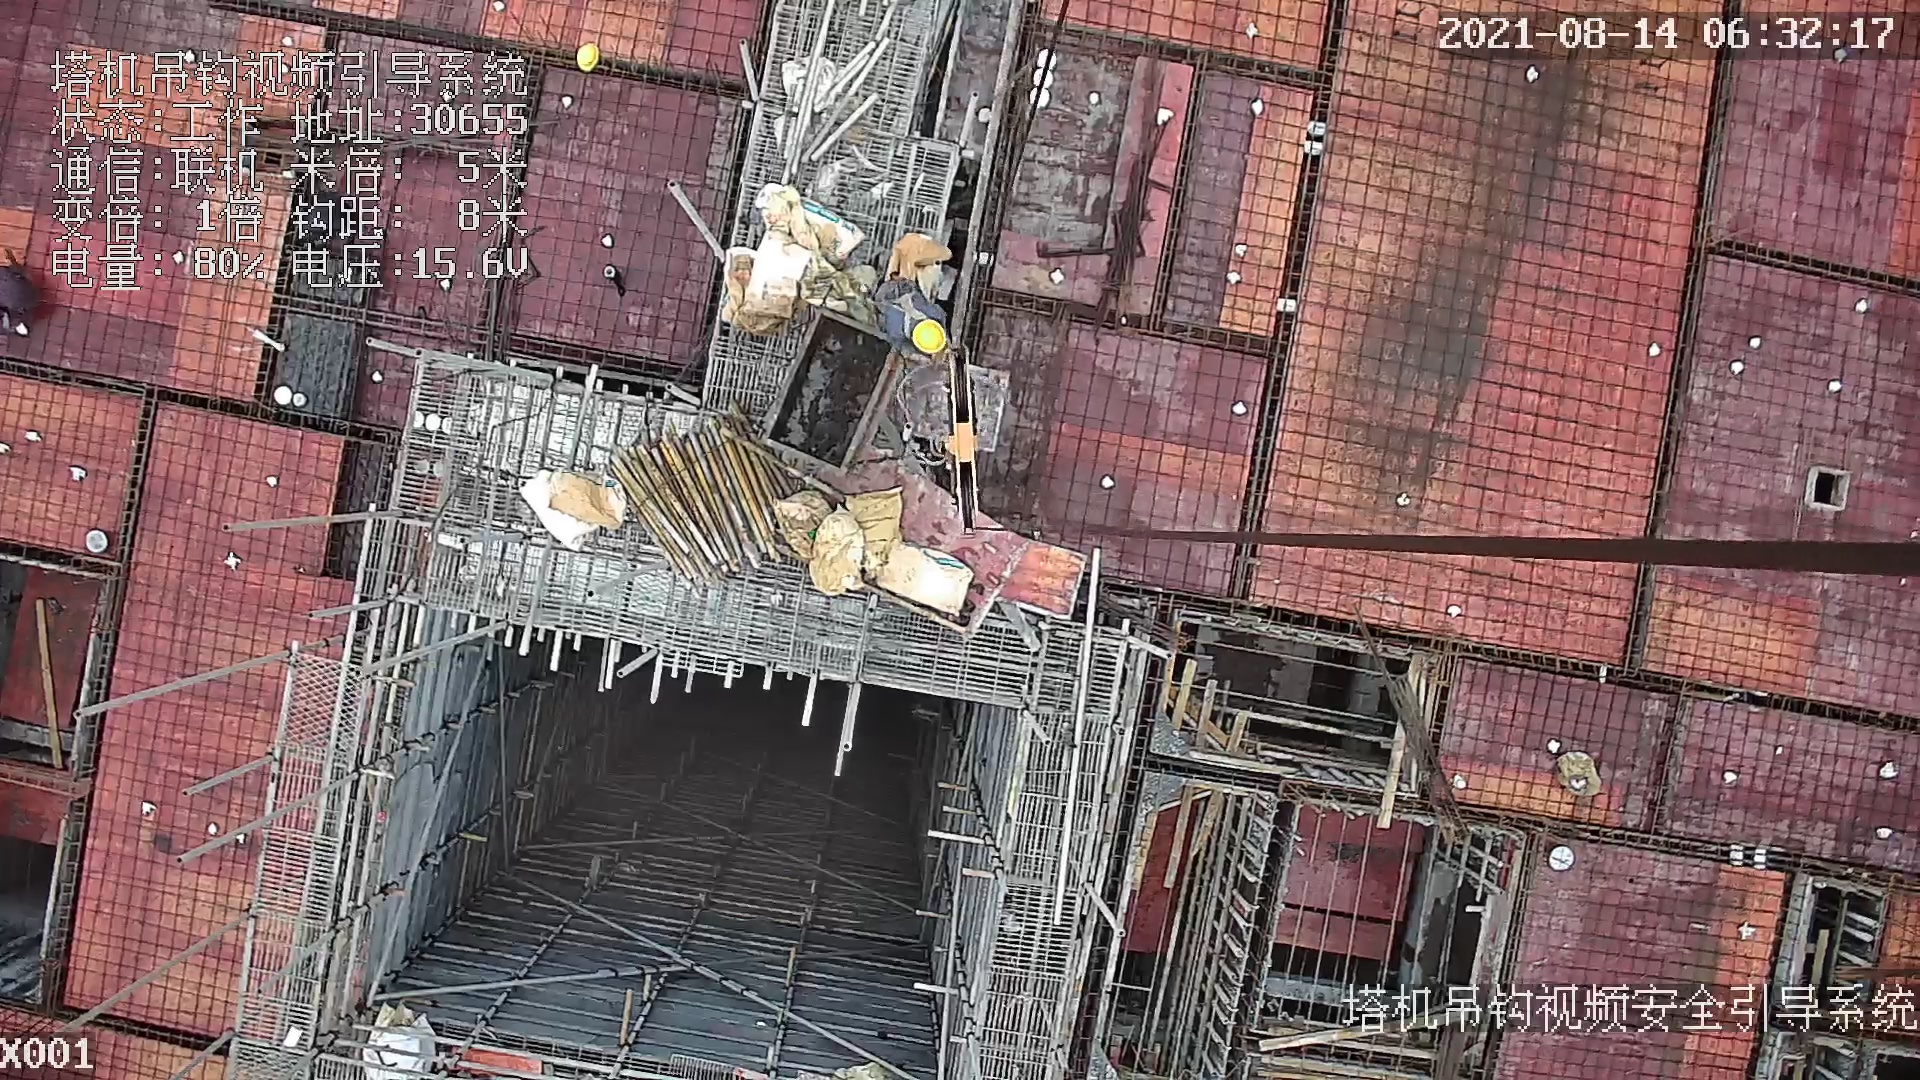helmet: (909, 318, 949, 354), (574, 43, 606, 71)
hook: (935, 346, 985, 528)
hopper: (765, 315, 897, 477)
person: (867, 277, 947, 359)
scaffold: (609, 405, 790, 591)
